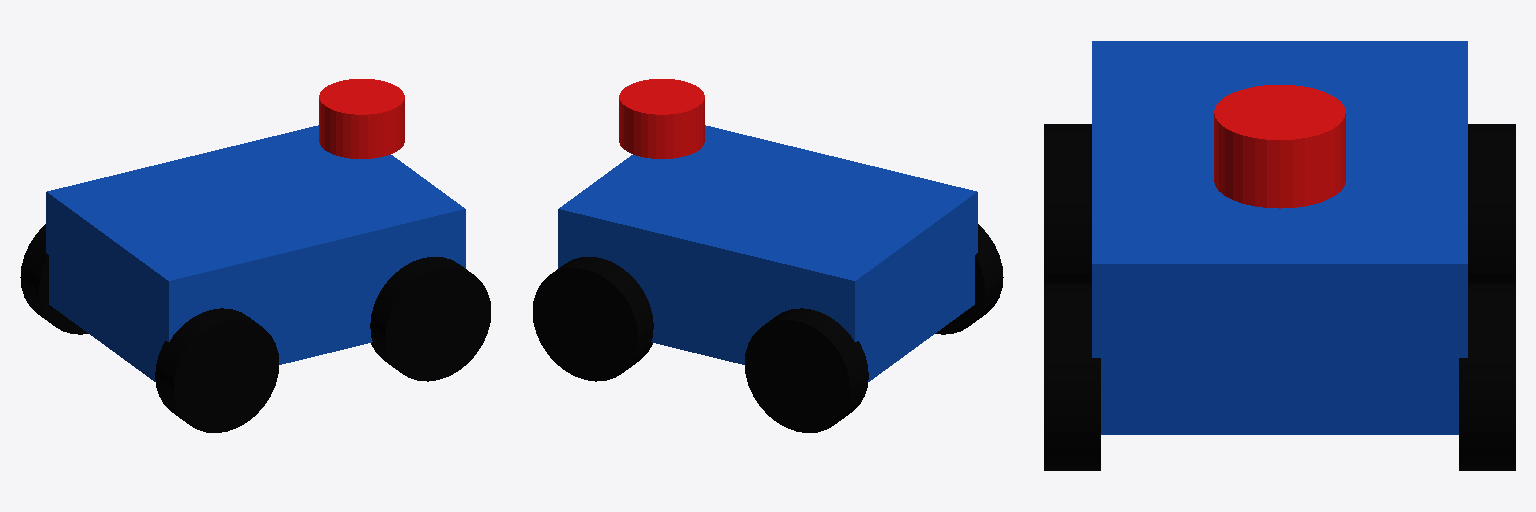
URDF robot description (hospitalnav_robot):
<?xml version="1.0"?>
<!--
  Gazebo model of the Yahboom A1 Ackermann chassis for the LMIC-HospitalNav sim.

  Simplification: driven via gazebo_ros_planar_move (linear.x + angular.z), not a
  true Ackermann steering joint. /cmd_shielded's "steering" field is a STEERING
  ANGLE (rad, matches scan_utils.MAX_STEER), fed here as angular.z (a yaw RATE) —
  close enough in magnitude (<=0.52 rad/s) for a pipeline/SLAM/Nav2 demo, but not
  physically exact Ackermann kinematics.
-->
<robot name="hospitalnav_robot">
  <link name="base_footprint"/>

  <joint name="base_footprint_joint" type="fixed">
    <parent link="base_footprint"/>
    <child link="base_link"/>
    <origin xyz="0 0 0.075" rpy="0 0 0"/>
  </joint>

  <link name="base_link">
    <inertial>
      <mass value="3.0"/>
      <origin xyz="0 0 0"/>
      <inertia ixx="0.03" ixy="0" ixz="0" iyy="0.05" iyz="0" izz="0.05"/>
    </inertial>
    <visual>
      <geometry>
        <box size="0.28 0.20 0.10"/>
      </geometry>
      <material name="body">
        <color rgba="0.1 0.35 0.75 1.0"/>
      </material>
    </visual>
    <collision>
      <geometry>
        <box size="0.28 0.20 0.10"/>
      </geometry>
    </collision>
  </link>

  <!-- four cosmetic wheels (visual only; planar_move drives the base directly) -->
  <link name="wheel_fl"><visual><geometry><cylinder radius="0.05" length="0.03"/></geometry><material name="wheel"><color rgba="0.05 0.05 0.05 1"/></material></visual></link>
  <joint name="wheel_fl_joint" type="fixed">
    <parent link="base_link"/><child link="wheel_fl"/>
    <origin xyz="0.10 0.11 -0.035" rpy="1.5708 0 0"/>
  </joint>

  <link name="wheel_fr"><visual><geometry><cylinder radius="0.05" length="0.03"/></geometry><material name="wheel"><color rgba="0.05 0.05 0.05 1"/></material></visual></link>
  <joint name="wheel_fr_joint" type="fixed">
    <parent link="base_link"/><child link="wheel_fr"/>
    <origin xyz="0.10 -0.11 -0.035" rpy="1.5708 0 0"/>
  </joint>

  <link name="wheel_rl"><visual><geometry><cylinder radius="0.05" length="0.03"/></geometry><material name="wheel"><color rgba="0.05 0.05 0.05 1"/></material></visual></link>
  <joint name="wheel_rl_joint" type="fixed">
    <parent link="base_link"/><child link="wheel_rl"/>
    <origin xyz="-0.10 0.11 -0.035" rpy="1.5708 0 0"/>
  </joint>

  <link name="wheel_rr"><visual><geometry><cylinder radius="0.05" length="0.03"/></geometry><material name="wheel"><color rgba="0.05 0.05 0.05 1"/></material></visual></link>
  <joint name="wheel_rr_joint" type="fixed">
    <parent link="base_link"/><child link="wheel_rr"/>
    <origin xyz="-0.10 -0.11 -0.035" rpy="1.5708 0 0"/>
  </joint>

  <!-- LD19 LiDAR mount: matches the static TF in hospitalnav_bringup.launch.py
       (0.15, 0, 0.2, base_link -> laser) -->
  <link name="laser">
    <visual>
      <geometry><cylinder radius="0.035" length="0.04"/></geometry>
      <material name="laser"><color rgba="0.9 0.1 0.1 1"/></material>
    </visual>
  </link>
  <joint name="laser_joint" type="fixed">
    <parent link="base_link"/>
    <child link="laser"/>
    <origin xyz="0.10 0 0.10" rpy="0 0 0"/>
  </joint>

  <gazebo>
    <plugin name="planar_move" filename="libgazebo_ros_planar_move.so">
      <ros>
        <remapping>cmd_vel:=cmd_shielded</remapping>
        <remapping>odom:=odom</remapping>
      </ros>
      <update_rate>50</update_rate>
      <publish_rate>50</publish_rate>
      <publish_odom>true</publish_odom>
      <publish_odom_tf>true</publish_odom_tf>
      <odometry_frame>odom</odometry_frame>
      <robot_base_frame>base_link</robot_base_frame>
      <covariance_x>0.0001</covariance_x>
      <covariance_y>0.0001</covariance_y>
      <covariance_yaw>0.0001</covariance_yaw>
    </plugin>
  </gazebo>

  <gazebo reference="laser">
    <sensor name="ld19" type="ray">
      <pose>0 0 0 0 0 0</pose>
      <visualize>false</visualize>
      <update_rate>10</update_rate>
      <ray>
        <scan>
          <horizontal>
            <samples>360</samples>
            <resolution>1.0</resolution>
            <min_angle>-3.14159265</min_angle>
            <max_angle>3.14159265</max_angle>
          </horizontal>
        </scan>
        <range>
          <min>0.12</min>
          <max>12.0</max>
          <resolution>0.01</resolution>
        </range>
      </ray>
      <plugin name="ld19_scan" filename="libgazebo_ros_ray_sensor.so">
        <ros>
          <remapping>~/out:=scan</remapping>
        </ros>
        <output_type>sensor_msgs/LaserScan</output_type>
        <frame_name>laser</frame_name>
      </plugin>
      <!-- Same physical sensor, same 2D scan plane as the real LD19 — this is
           NOT a 3D lidar. Publishing it as a PointCloud2 too just lets RViz
           render the scan (and the walls' real height) in a 3D orbit view. -->
      <plugin name="ld19_points" filename="libgazebo_ros_ray_sensor.so">
        <ros>
          <remapping>~/out:=points</remapping>
        </ros>
        <output_type>sensor_msgs/PointCloud2</output_type>
        <frame_name>laser</frame_name>
      </plugin>
    </sensor>
  </gazebo>

  <gazebo reference="base_link">
    <material>Gazebo/Blue</material>
    <!-- planar_move drives this link by setting velocity directly every step;
         ground contact/friction on a flat box fights that (verified: measured
         mu=1 even after a <mu1>/<mu2> URDF extension attempt — the converter
         didn't pick it up), blocking even pure in-place rotation. Marking the
         link kinematic makes the plugin's velocity authoritative and skips
         physics response to contact/friction/gravity for this body entirely. -->
    <kinematic>true</kinematic>
  </gazebo>
</robot>

--- Facts derived from the render (not from the file) ---
3 views of the same robot in one strip: view 1: azimuth 30°, elevation 25°; view 2: azimuth 150°, elevation 25°; view 3: azimuth 270°, elevation 25° (orthographic).
Robot: hospitalnav_robot — 7 links, 6 joints (6 fixed); root link base_footprint; default pose: all joints at 0.
Visible links, largest first — view 1: base_link, wheel_rr, wheel_fr, laser, wheel_rl; view 2: base_link, wheel_rl, wheel_fl, laser, wheel_rr; view 3: base_link, laser, wheel_fl, wheel_fr, wheel_rl, wheel_rr.
Boxes of the visible links, <box> form: base_link: <box>46,125,465,381</box>; wheel_rr: <box>155,308,278,432</box>; wheel_fr: <box>370,257,490,381</box>; laser: <box>319,79,404,158</box>; wheel_rl: <box>20,224,88,334</box>; base_link: <box>558,125,977,381</box>; wheel_rl: <box>745,308,868,432</box>; wheel_fl: <box>533,257,653,381</box>; laser: <box>619,79,704,158</box>; wheel_rr: <box>935,224,1003,334</box>; base_link: <box>1092,41,1467,434</box>; laser: <box>1214,85,1345,208</box>; wheel_fl: <box>1459,283,1515,470</box>; wheel_fr: <box>1044,283,1100,470</box>; wheel_rl: <box>1468,124,1515,282</box>; wheel_rr: <box>1044,124,1091,282</box>.
Size in the robot's own frame: 0.3 by 0.25 by 0.205 metres.
Geometry: primitives only (box / cylinder / sphere), no mesh files.
